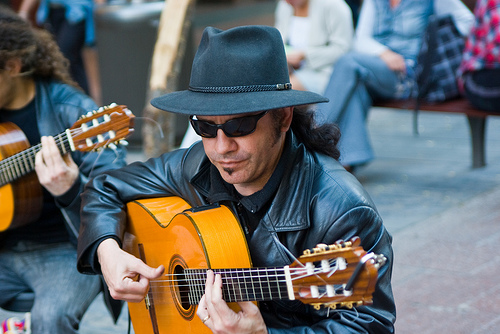guitar: (128, 201, 370, 334), (1, 101, 134, 236)
